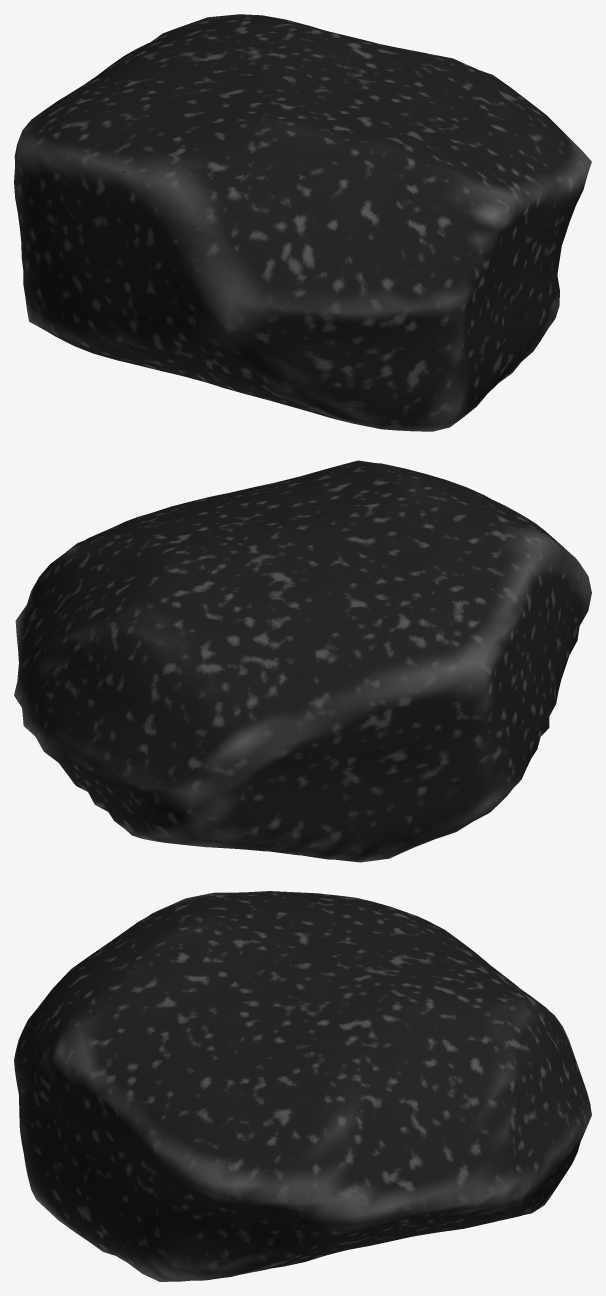
The model's file is lunar_rock3.glb.
The picture shows the model from 3 angles, top to bottom: view 1: azimuth 30°, elevation 25°; view 2: azimuth 150°, elevation 25°; view 3: azimuth 270°, elevation 25°; orthographic projection. The views are drawn at different scales.
Visible parts, largest first — view 1: lunar_rock_3; view 2: lunar_rock_3; view 3: lunar_rock_3.
Boxes of the visible parts, x1=… form: lunar_rock_3: x1=14, y1=14, x2=591, y2=431; lunar_rock_3: x1=14, y1=460, x2=591, y2=862; lunar_rock_3: x1=14, y1=891, x2=591, y2=1281.
Size of the model in its own units: 0.1594 by 0.0888 by 0.1706.
Materials: 1 (1 with a texture image).
